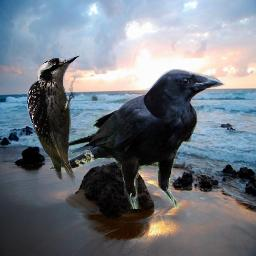Crow: (49, 69, 226, 209)
Woodpecker: (22, 49, 84, 186)
